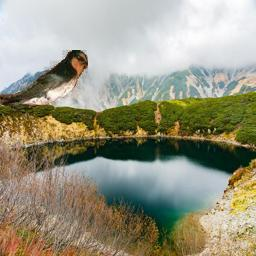Swallow: (0, 50, 88, 107)
